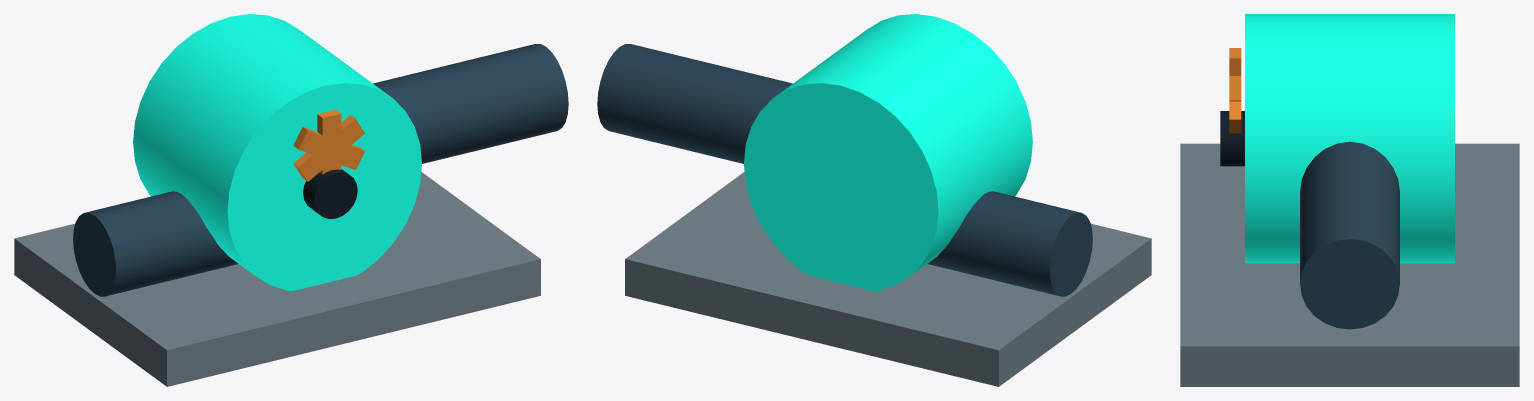
The model's file is pump.gltf.
3 renders of one model, left to right at view 1: azimuth 30°, elevation 25°; view 2: azimuth 150°, elevation 25°; view 3: azimuth 270°, elevation 25°, orthographic. The views are drawn at different scales.
Visible parts, largest first — view 1: PumpHousing, PumpBase, OutletPipe, InletPipe, Hub, Blade1, Blade2, Blade0; view 2: PumpHousing, PumpBase, OutletPipe, InletPipe; view 3: PumpBase, PumpHousing, OutletPipe, Hub, Blade1, Blade0, Blade2.
Part boxes in pixels (x1,y1,x2,y2): PumpHousing: [133, 14, 421, 290]; PumpBase: [14, 172, 540, 386]; OutletPipe: [373, 44, 568, 163]; InletPipe: [73, 191, 238, 296]; Hub: [303, 169, 357, 218]; Blade1: [293, 127, 365, 170]; Blade2: [293, 115, 364, 181]; Blade0: [317, 109, 341, 174]; PumpHousing: [744, 14, 1032, 290]; PumpBase: [625, 172, 1151, 386]; OutletPipe: [597, 44, 792, 163]; InletPipe: [927, 191, 1092, 296]; PumpBase: [1180, 143, 1519, 386]; PumpHousing: [1245, 14, 1454, 263]; OutletPipe: [1300, 141, 1399, 329]; Hub: [1220, 111, 1244, 166]; Blade1: [1229, 101, 1241, 133]; Blade0: [1229, 48, 1241, 75]; Blade2: [1229, 76, 1241, 101].
Bounding box in the file's own units: 5.85 × 2.87 × 3.4.
